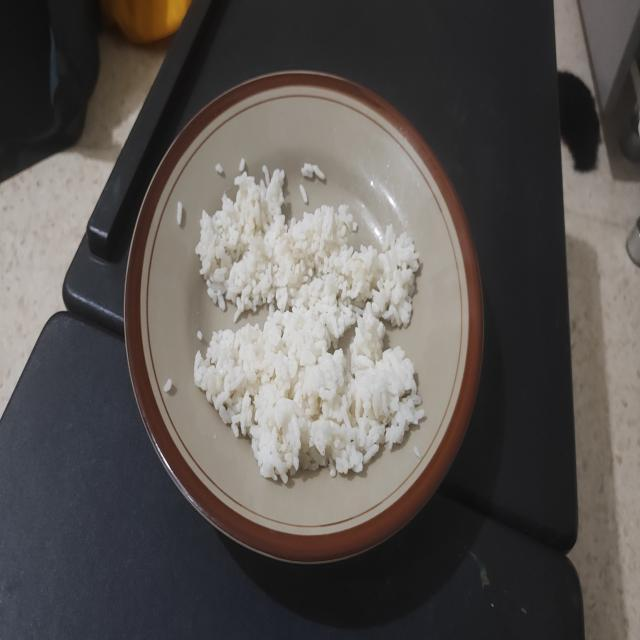nasi_putih: (194, 169, 424, 482)
